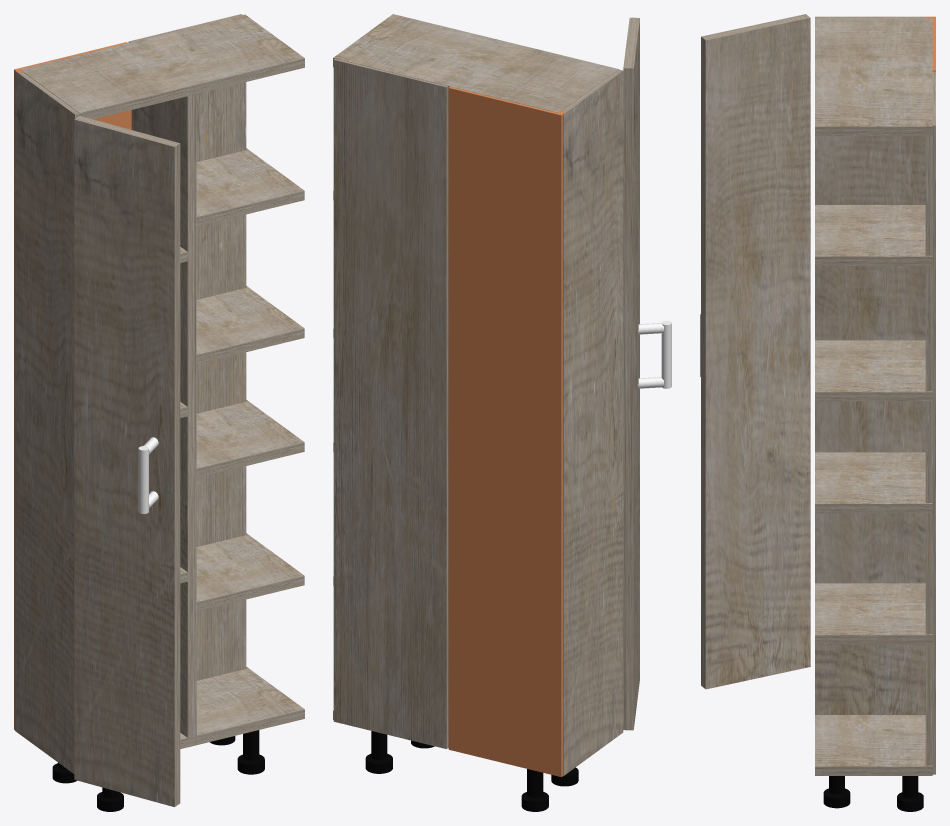
The model's file is mueble1.glb.
3 renders of one model, left to right at view 1: azimuth 30°, elevation 25°; view 2: azimuth 150°, elevation 25°; view 3: azimuth 270°, elevation 25°, orthographic.
Visible parts, largest first — view 1: Cube.012, Cube.007, Cube, Cube.002, Cube.003, Cube.001, Cube.011, Cube.008, Cube.010, Cube.009, Cube.013, Cylinder.012; view 2: Cube, Cube.013, Cube.007, Cube.002, Cube.012, Cylinder.012, Cube.003; view 3: Cube.012, Cube.003, Cube.002, Cube.008, Cube.009, Cube.010, Cube, Cube.001, Cube.011.
Part boxes in pixels (x1,y1,x2,y2): Cube.012: (74, 116, 180, 806); Cube.007: (15, 71, 83, 773); Cube: (128, 14, 246, 680); Cube.002: (20, 14, 304, 119); Cube.003: (131, 85, 196, 746); Cube.001: (180, 666, 304, 748); Cube.011: (196, 148, 304, 226); Cube.008: (196, 533, 304, 611); Cube.010: (196, 286, 304, 364); Cube.009: (195, 400, 304, 477); Cube.013: (14, 42, 131, 730); Cylinder.012: (138, 446, 148, 513); Cube: (333, 58, 448, 748); Cube.013: (448, 86, 566, 777); Cube.007: (563, 69, 623, 776); Cube.002: (333, 14, 618, 112); Cube.012: (623, 17, 639, 730); Cylinder.012: (661, 320, 671, 388); Cube.003: (448, 96, 448, 738); Cube.012: (701, 14, 810, 689); Cube.003: (815, 136, 925, 714); Cube.002: (815, 18, 932, 135); Cube.008: (815, 583, 932, 644); Cube.009: (815, 452, 932, 513); Cube.010: (815, 340, 932, 401); Cube: (925, 71, 935, 774); Cube.001: (815, 715, 932, 775); Cube.011: (815, 205, 932, 265).
Size of the model in its own units: 2.61 by 7.55 by 2.31.
Materials: 17 (1 with a texture image).
